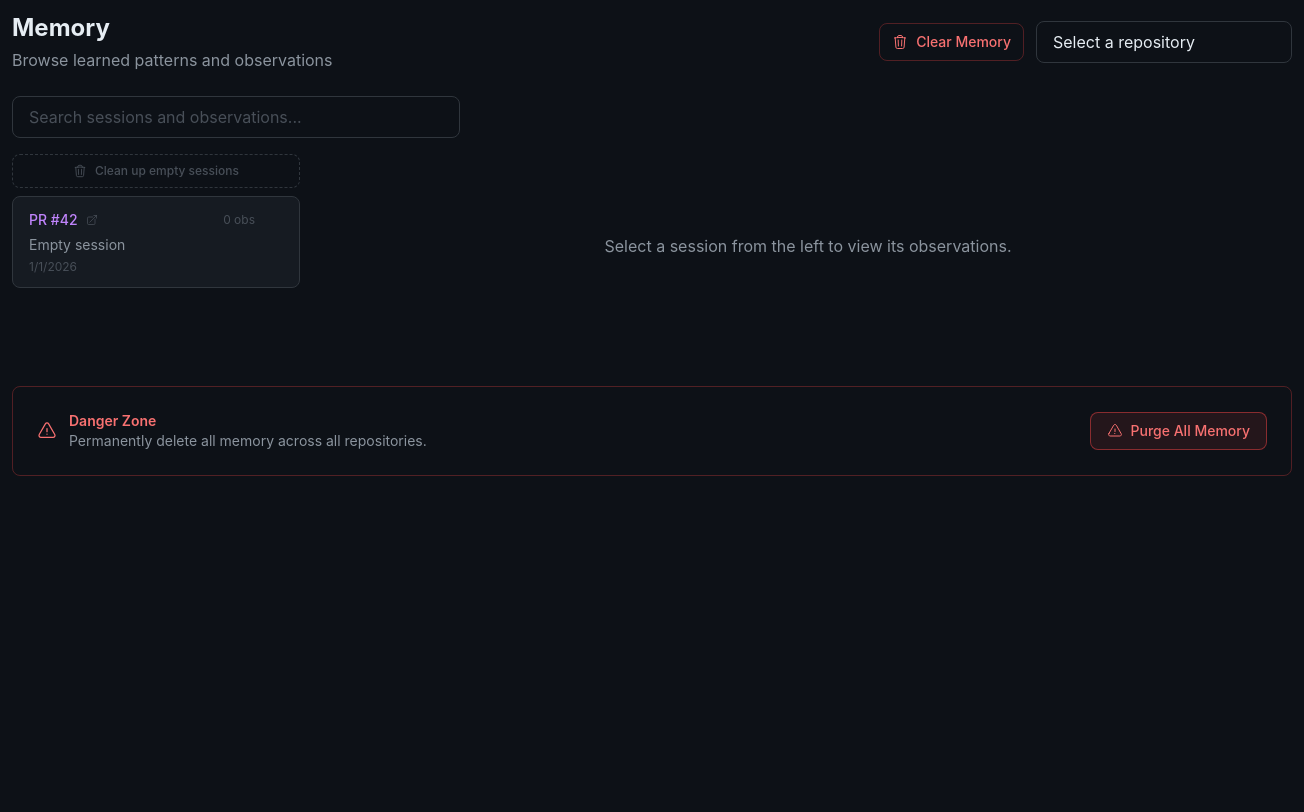
Test case: Memory page — empty states › shows empty observations message when session has no observations
# Select the session
Click the text "PR #42": click(53, 220) top-left (29, 210), bottom-right (78, 230)
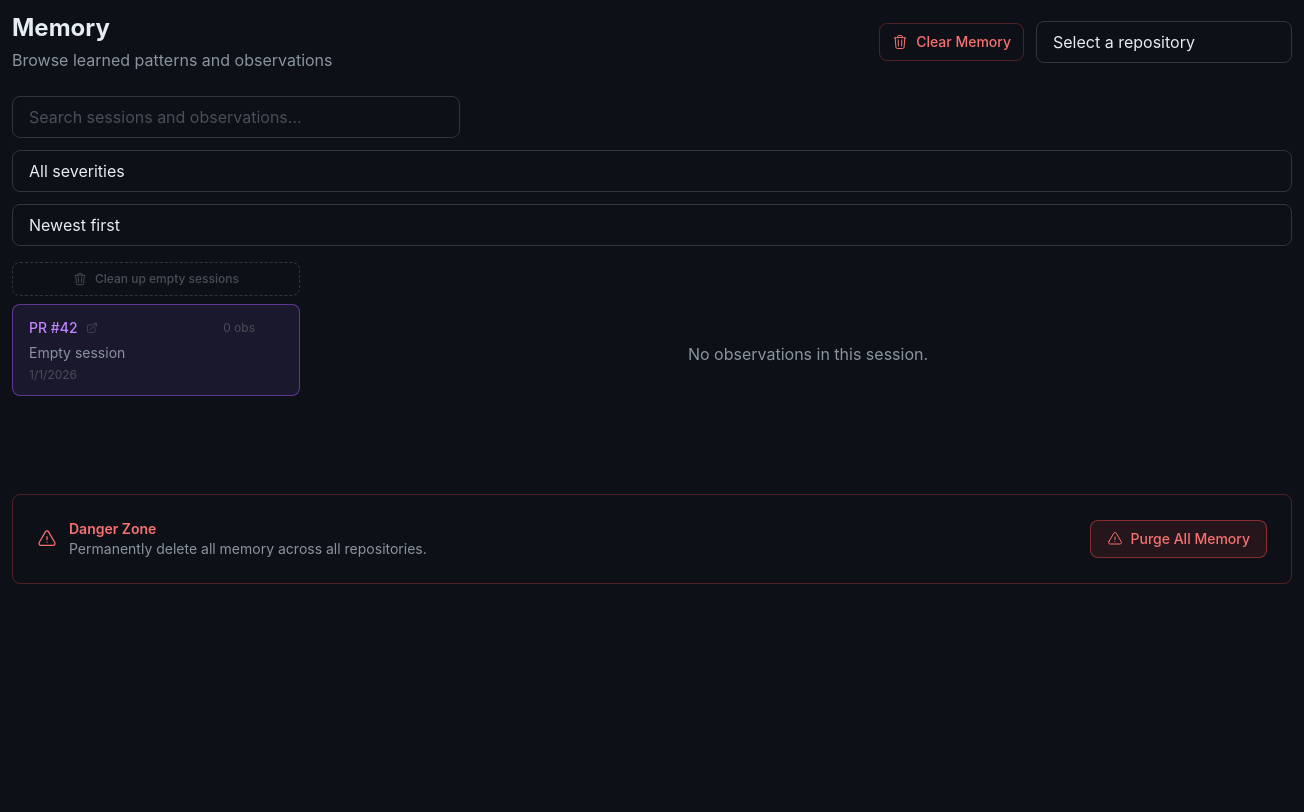
expect the text "No observations in this session." is shown: met, box top-left (688, 342), bottom-right (928, 366)
